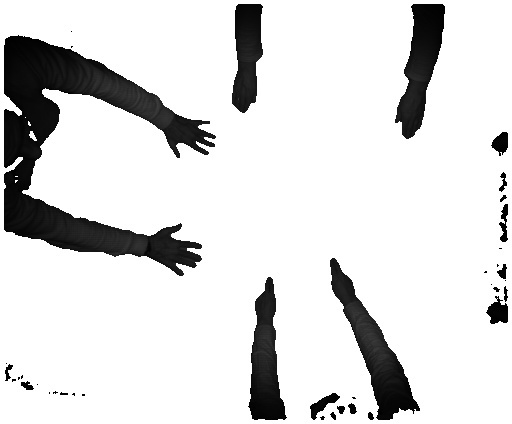hand: (149, 223, 207, 279), (167, 118, 215, 159), (392, 94, 431, 143), (248, 272, 279, 323), (232, 73, 263, 119), (328, 256, 357, 300)
